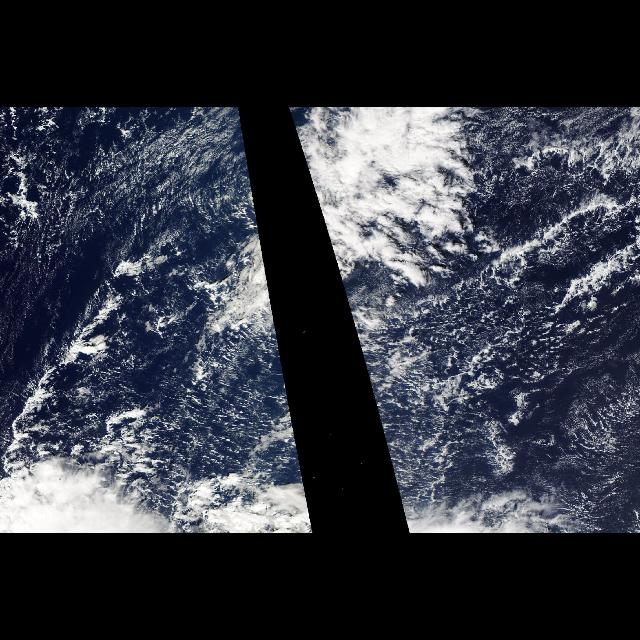Fish: (288, 107, 484, 340), (200, 107, 280, 340)
Gravel: (358, 112, 638, 500), (5, 110, 302, 472)
